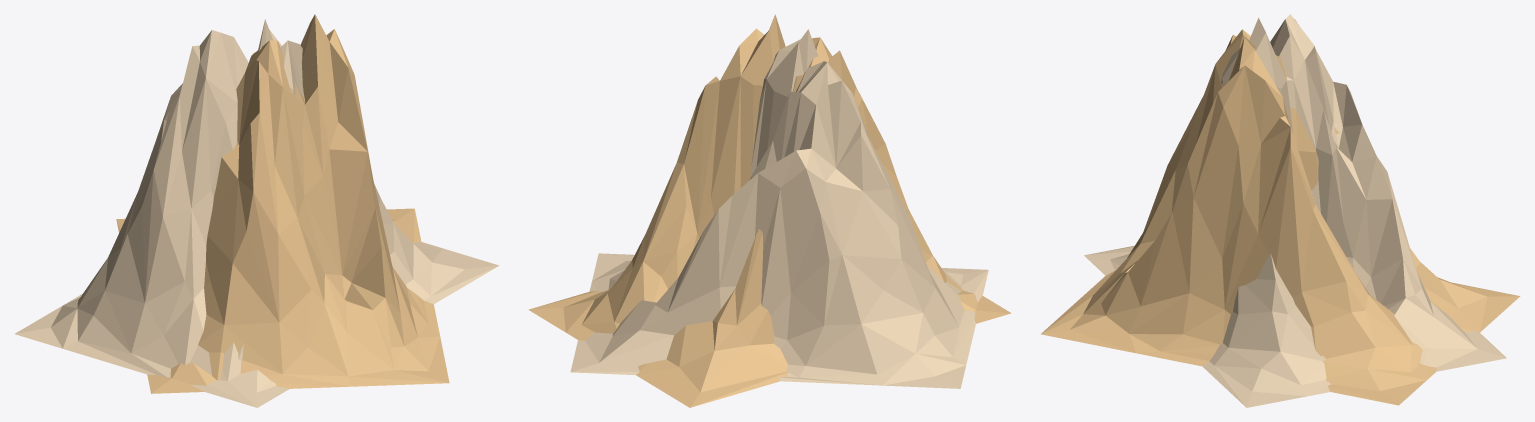
The model's file is mount4_00008.fbx.
3 views of the same model, side by side, from view 1: azimuth 30°, elevation 25°; view 2: azimuth 150°, elevation 25°; view 3: azimuth 270°, elevation 25° (orthographic). The views are drawn at different scales.
Visible parts, largest first — view 1: mount4; view 2: mount4; view 3: mount4.
Part boxes in pixels (x1,y1,x2,y2): mount4: (15,14,499,407); mount4: (528,14,1011,407); mount4: (1041,14,1520,407).
Bounding box in the file's own units: 6725 × 4436 × 6746.
